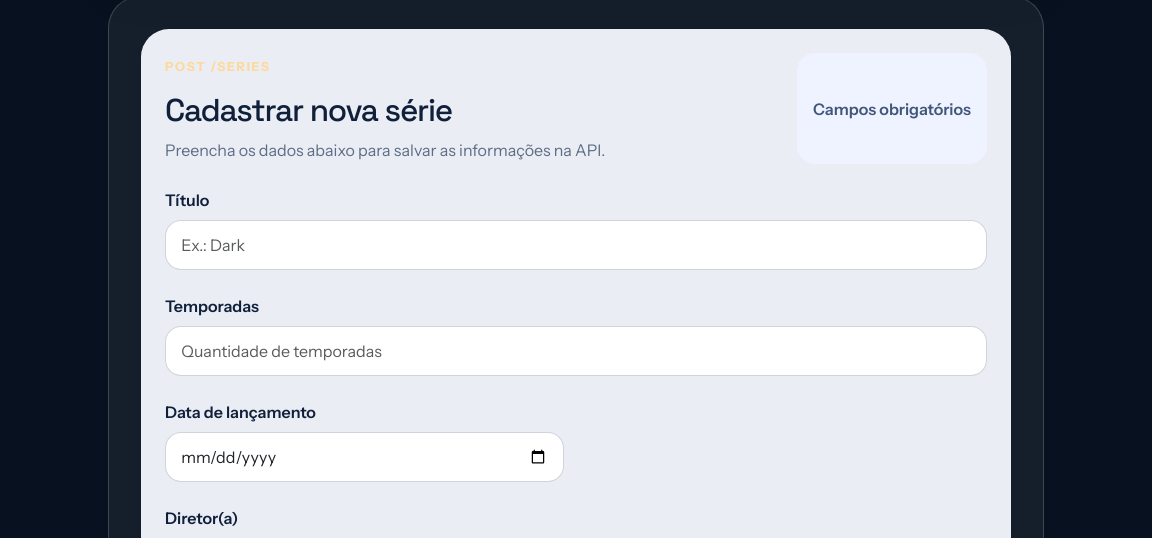
Test: cadastra uma nova série usando o formulário
Type "Severance" into the field labelled "Título". click: (576, 245)
box: x1=165 y1=220 x2=987 y2=270
Type "2" into the number field labelled "Temporadas". click: (576, 351)
box: x1=165 y1=326 x2=987 y2=376
Type "2022-02-18" into the date field labelled "Data de lançamento". click: (364, 457)
box: x1=165 y1=432 x2=564 y2=482
(page scrolled)
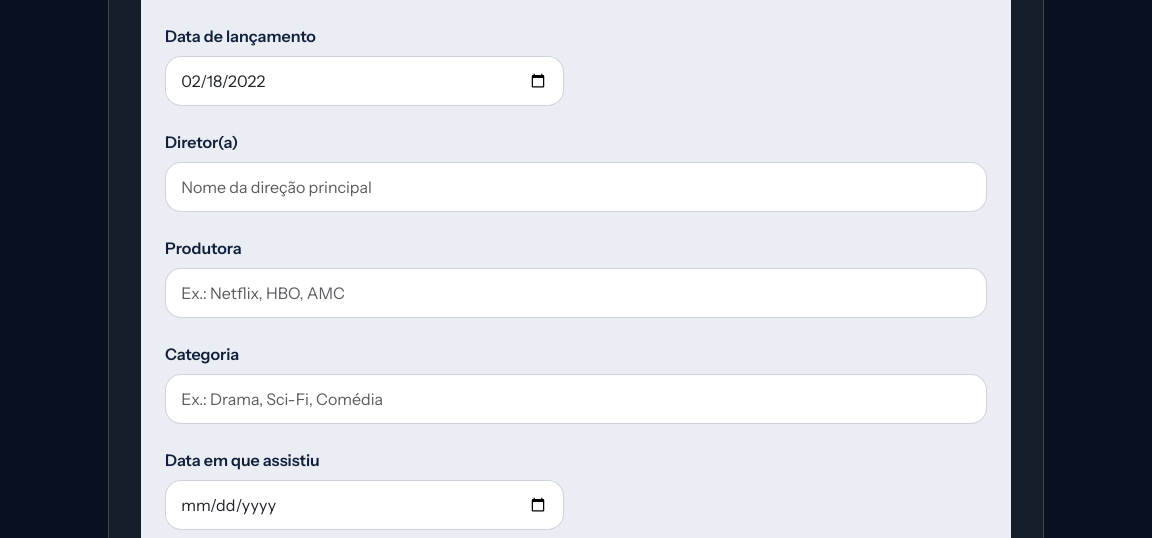
Type "Ben Stiller" into the field labelled "Diretor(a)". click: (576, 187)
box: x1=165 y1=162 x2=987 y2=212
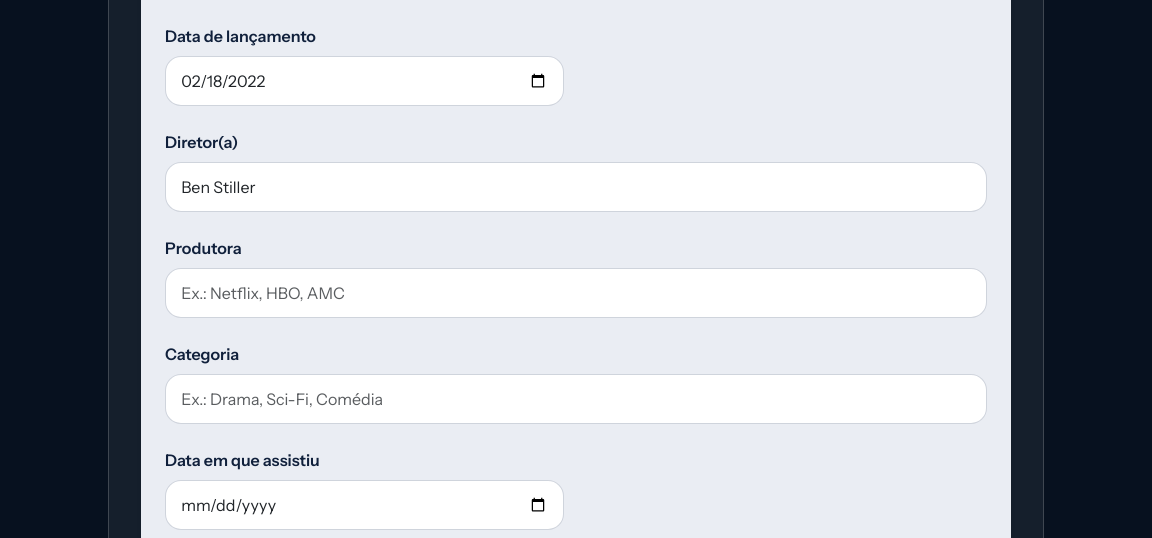
Type "Apple TV+" into the field labelled "Produtora". click: (576, 293)
box: x1=165 y1=268 x2=987 y2=318
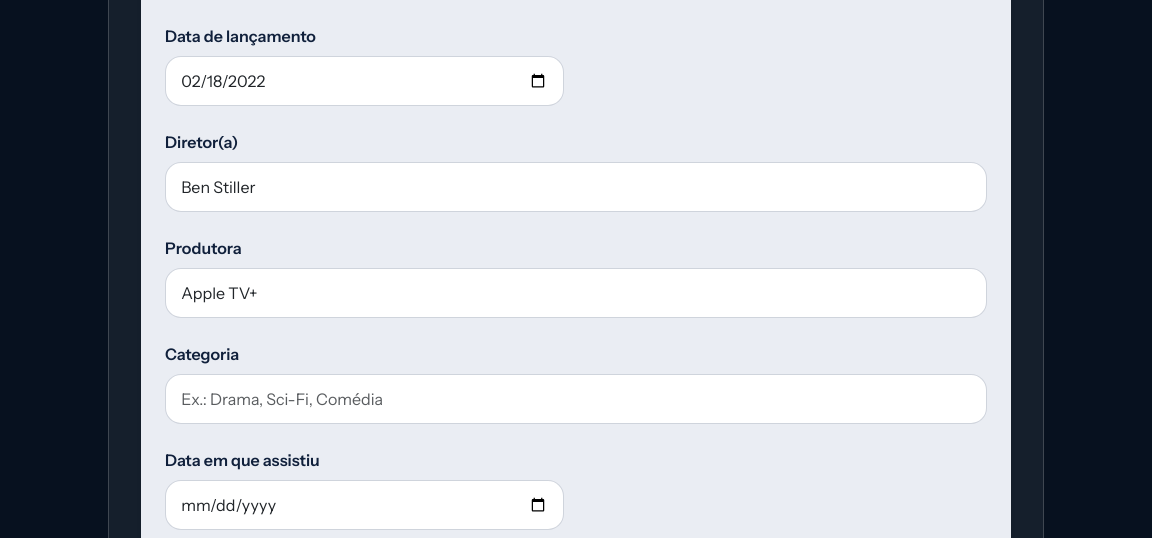
Type "Sci-Fi/Drama" into the field labelled "Categoria". click: (576, 399)
box: x1=165 y1=374 x2=987 y2=424
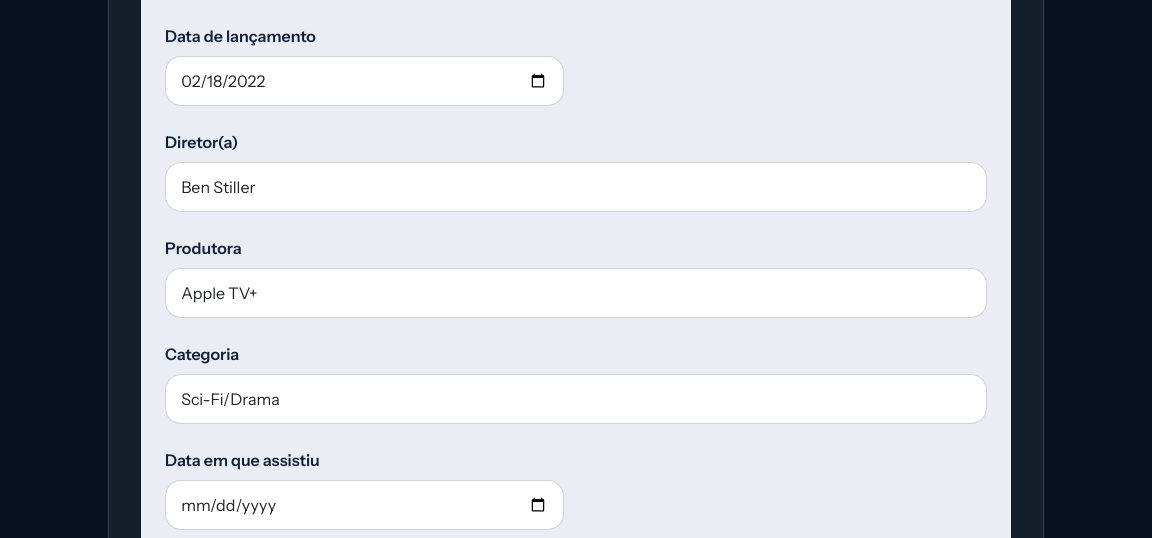
Type "2026-03-29" into the date field labelled "Data em que assistiu". click: (364, 505)
box: x1=165 y1=480 x2=564 y2=530
(page scrolled)
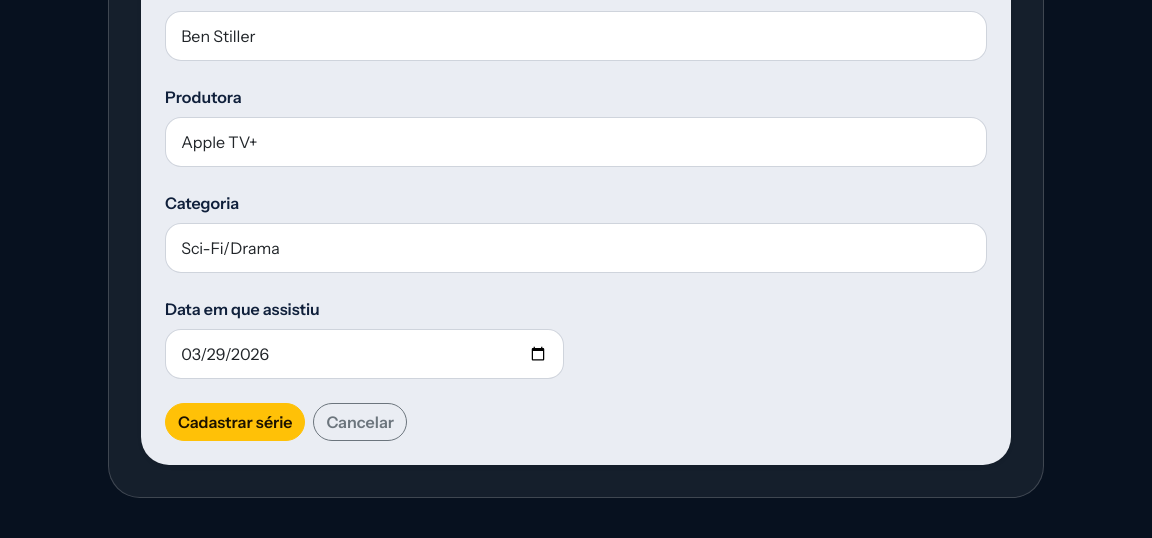
Click the button "Cadastrar série". click: click(235, 422)
box: x1=165 y1=403 x2=306 y2=441
(page scrolled)
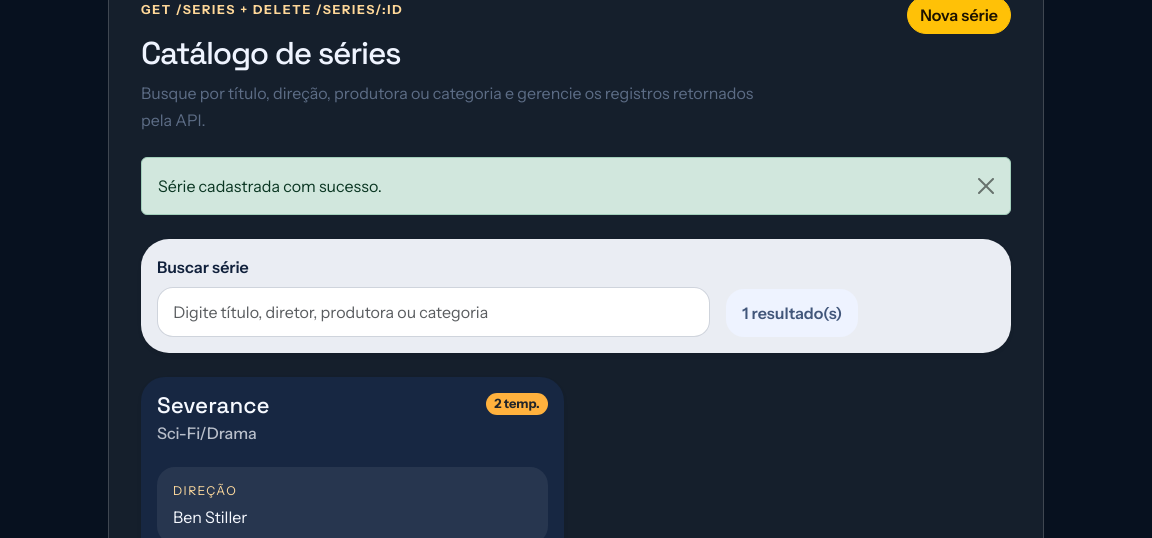
Result: the text "Série cadastrada com sucesso." is shown at x1=141 y1=157 x2=1011 y2=215
